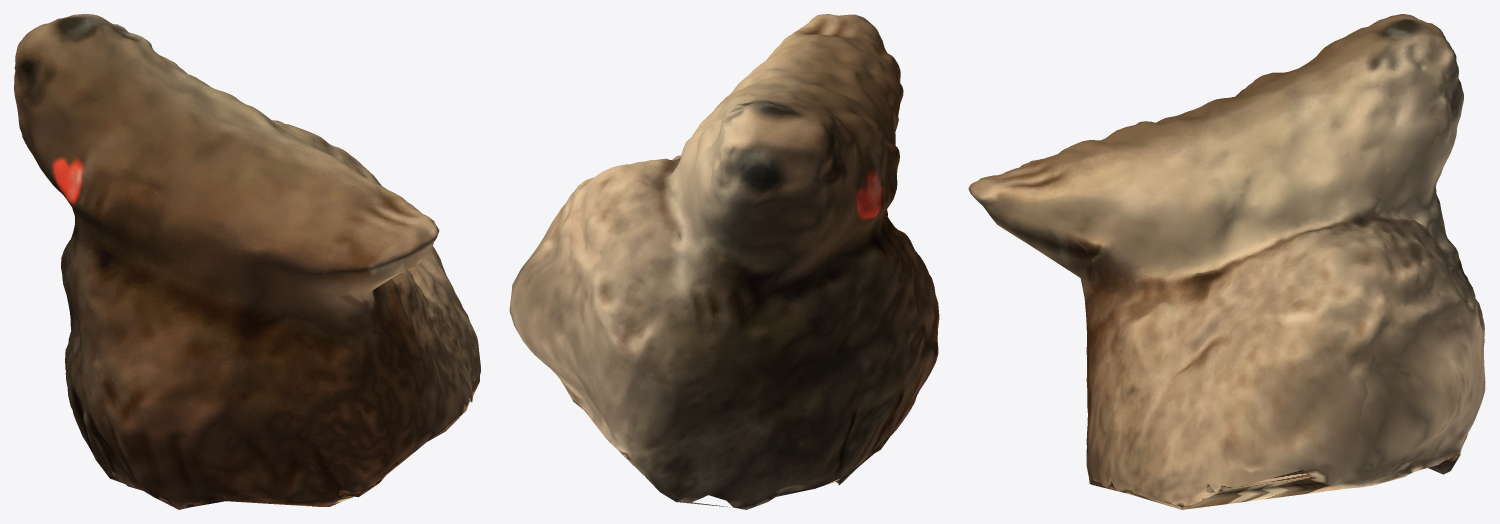
3 views of the same model, side by side, from view 1: azimuth 30°, elevation 25°; view 2: azimuth 150°, elevation 25°; view 3: azimuth 270°, elevation 25° (orthographic). The views are drawn at different scales.
Parts seen in each view (by area): view 1: Mesh_0.003; view 2: Mesh_0.003; view 3: Mesh_0.003.
Boxes of the visible parts, x1,y1,x2,y2 form: Mesh_0.003: (14, 14, 480, 509); Mesh_0.003: (509, 14, 939, 509); Mesh_0.003: (968, 14, 1485, 509).
Bounding box in the file's own units: 0.0356 × 0.0391 × 0.0438.
Materials: 1 (1 with a texture image).
